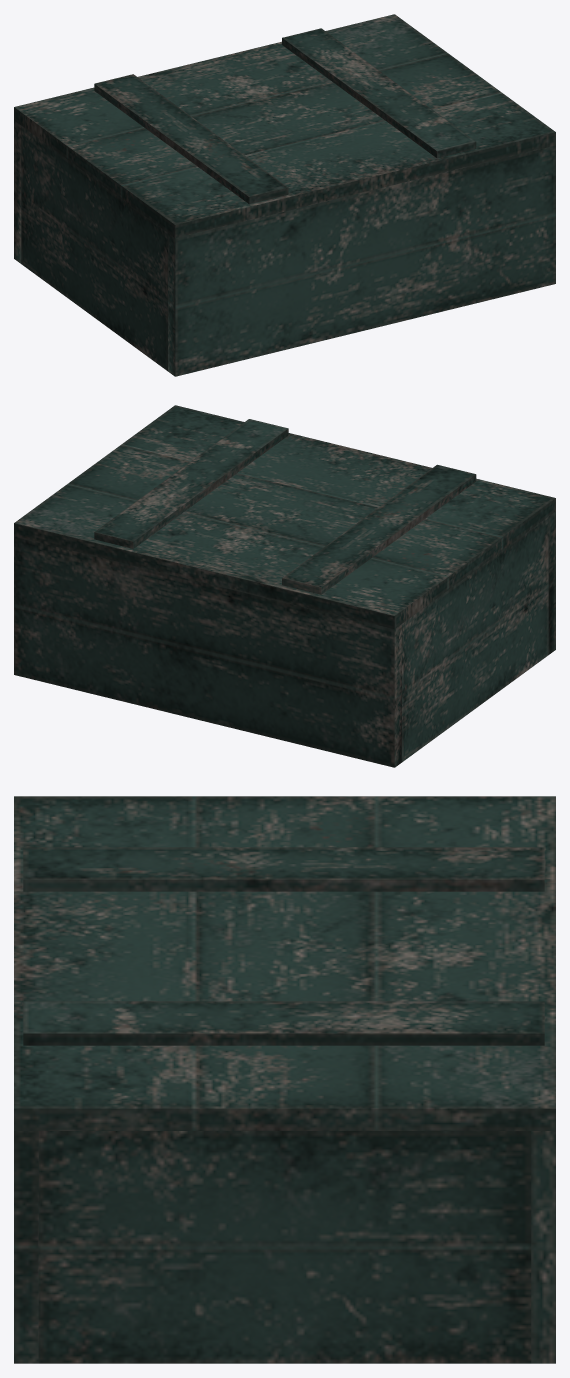
File: CratePaintedClosed.fbx
3 views of the same model, one above another, from view 1: azimuth 30°, elevation 25°; view 2: azimuth 150°, elevation 25°; view 3: azimuth 270°, elevation 25° (orthographic). The views are drawn at different scales.
Visible parts, largest first — view 1: CratePaintedClosed; view 2: CratePaintedClosed; view 3: CratePaintedClosed.
Part boxes in pixels (bbox=[...]): CratePaintedClosed: bbox=[14, 14, 555, 376]; CratePaintedClosed: bbox=[14, 405, 555, 767]; CratePaintedClosed: bbox=[14, 796, 555, 1363].
Bounding box in the file's own units: 60 × 23.92 × 44.
Materials: 1 (1 with a texture image).
